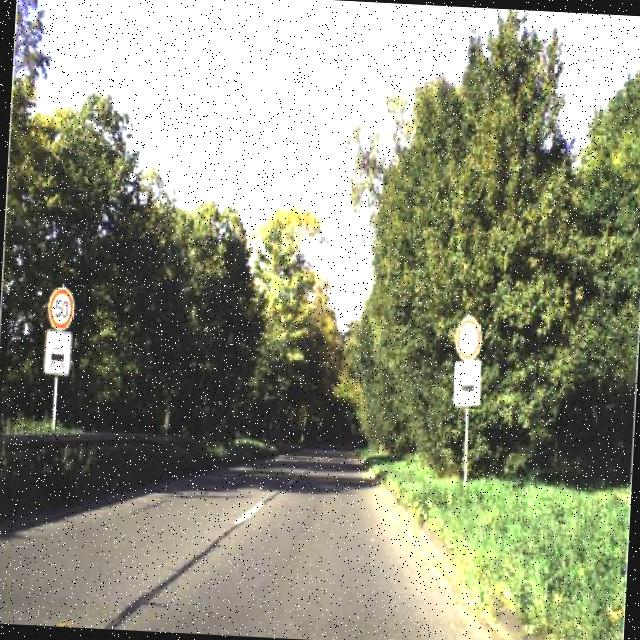Ograniczenie predkosci do 50: (46, 285, 78, 331), (453, 316, 483, 362)
